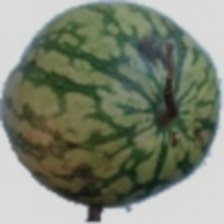watermelon: (35, 18, 224, 176)
